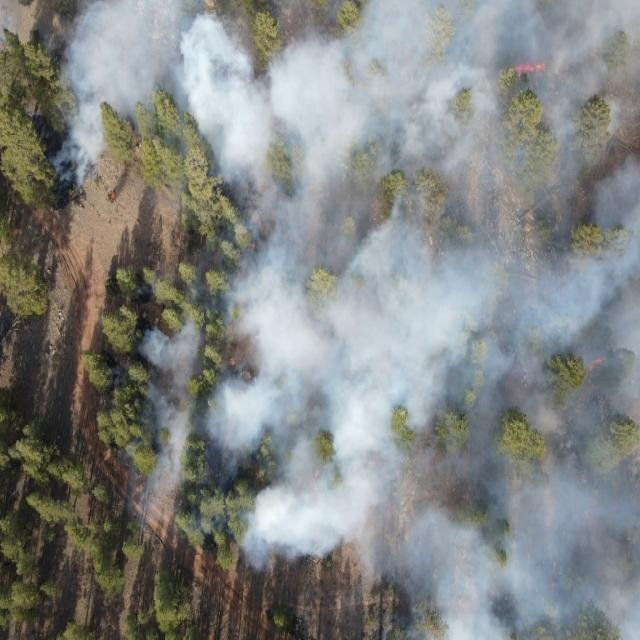fire: (509, 61, 546, 73), (588, 356, 607, 372), (584, 232, 592, 254), (254, 472, 266, 482), (107, 191, 116, 203), (314, 468, 322, 478), (252, 240, 257, 250)
smoke: (382, 182, 640, 640), (46, 1, 640, 184), (204, 182, 384, 570), (136, 318, 204, 536), (115, 450, 136, 520), (105, 360, 134, 390), (132, 274, 162, 297), (187, 267, 204, 304)
